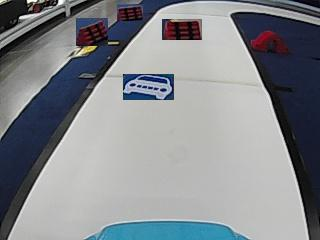bridge: (252, 28, 287, 52)
